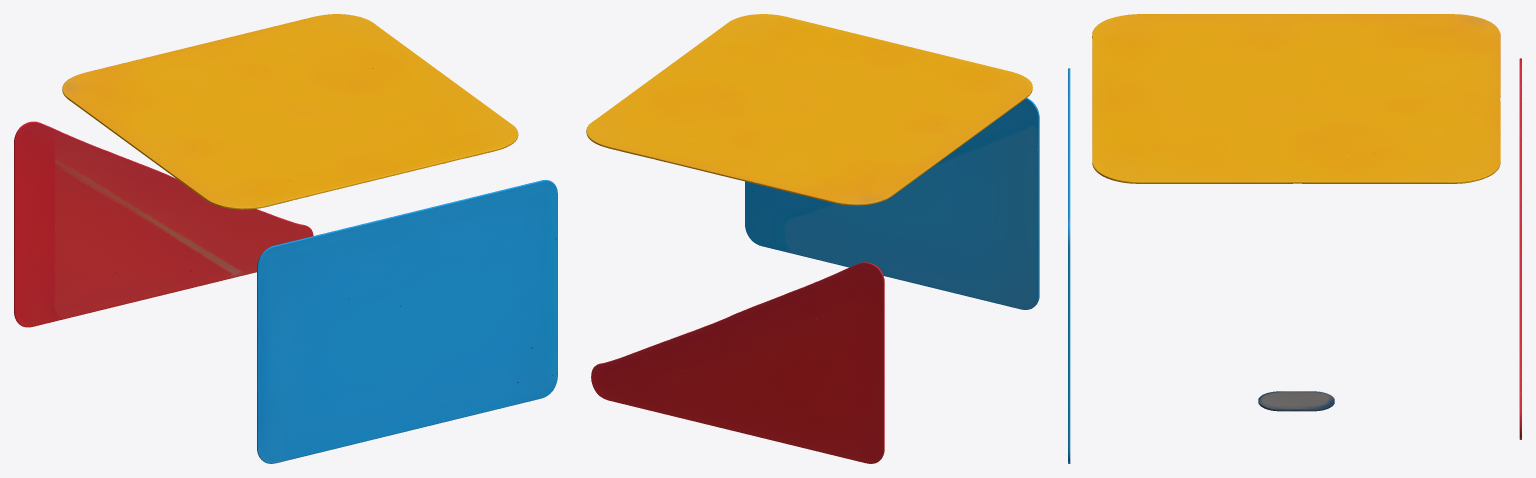
The model's file is airtable3.glb.
3 views of the same model, side by side, from view 1: azimuth 30°, elevation 25°; view 2: azimuth 150°, elevation 25°; view 3: azimuth 270°, elevation 25° (orthographic). The views are drawn at different scales.
Visible parts, largest first — view 1: material.001; view 2: material.001; view 3: material.001.
Boxes of the visible parts, x1,y1,x2,y2 form: material.001: (14,14,557,463); material.001: (586,14,1039,463); material.001: (1068,14,1521,463).
Bounding box in the file's own units: 0.7793 × 0.5838 × 0.7941.
1 material, 1 textured.
